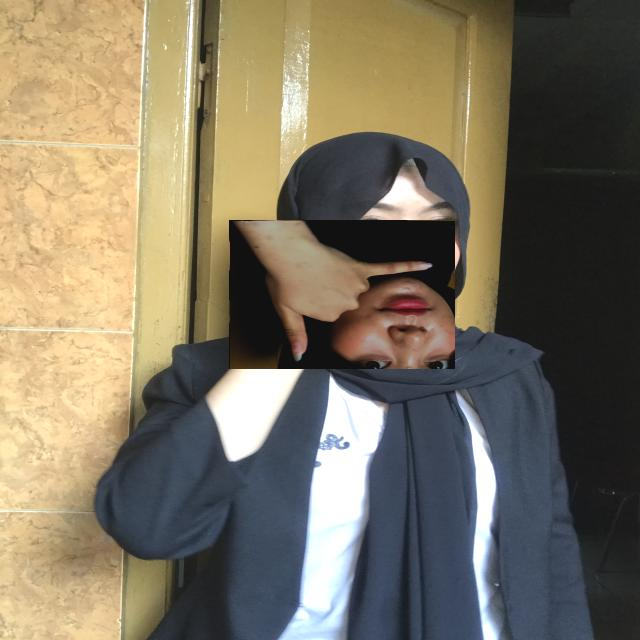telpon: (229, 220, 455, 369)
